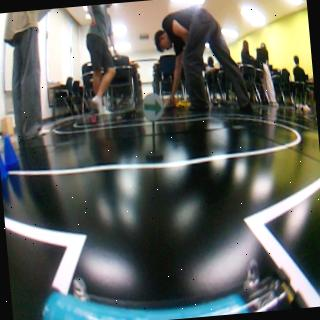right: (140, 92, 163, 120)
